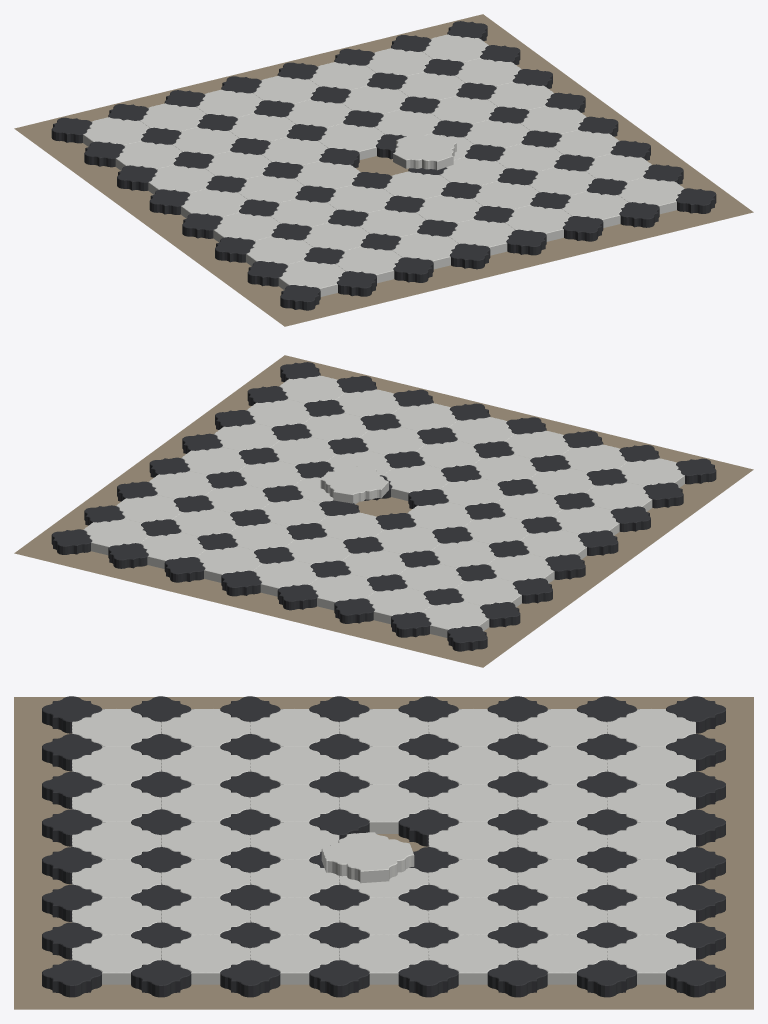
The model's file is terilgan.glb.
3 renders of one model, top to bottom at view 1: azimuth 30°, elevation 25°; view 2: azimuth 150°, elevation 25°; view 3: azimuth 270°, elevation 25°, orthographic. The views are drawn at different scales.
Parts seen in each view (by area): view 1: qum, t.060, t.009, t.039, t.099, t.054, t.024, t.084, t.062, t.069, t.017, t.015 (+99 smaller); view 2: qum, t.060, t.021, t.051, t.111, t.036, t.066, t.096, t.058, t.081, t.013, t.017 (+99 smaller); view 3: qum, t.060, t.105, t.103, t.107, t.101, t.109, t.045, t.099, t.111, t.079, t.071 (+101 smaller).
Part boxes in pixels (<box>): qum: <box>14,14,753,326</box>; t.060: <box>393,134,456,170</box>; t.009: <box>278,260,345,296</box>; t.039: <box>392,233,458,269</box>; t.099: <box>618,178,684,214</box>; t.054: <box>448,219,514,255</box>; t.024: <box>336,246,401,283</box>; t.084: <box>561,191,627,227</box>; t.062: <box>318,123,384,159</box>; t.069: <box>505,205,571,241</box>; t.017: <box>148,165,214,194</box>; t.015: <box>181,189,247,218</box>; qum: <box>14,355,753,667</box>; t.060: <box>320,466,388,503</box>; t.021: <box>422,601,489,637</box>; t.051: <box>310,574,375,610</box>; t.111: <box>83,519,149,555</box>; t.036: <box>366,587,431,624</box>; t.066: <box>253,560,319,596</box>; t.096: <box>140,532,206,568</box>; t.058: <box>383,464,449,500</box>; t.081: <box>196,546,262,582</box>; t.013: <box>553,506,619,535</box>; t.017: <box>488,553,554,583</box>; qum: <box>14,697,753,1009</box>; t.060: <box>321,832,414,883</box>; t.105: <box>339,935,428,984</box>; t.103: <box>250,935,339,984</box>; t.107: <box>428,935,517,984</box>; t.101: <box>161,935,250,984</box>; t.109: <box>517,935,606,984</box>; t.045: <box>339,784,428,833</box>; t.099: <box>72,935,160,984</box>; t.111: <box>607,935,695,984</box>; t.079: <box>517,859,606,897</box>; t.071: <box>161,859,250,897</box>.
Size of the model in its own units: 1.66 by 0.062 by 1.66.
